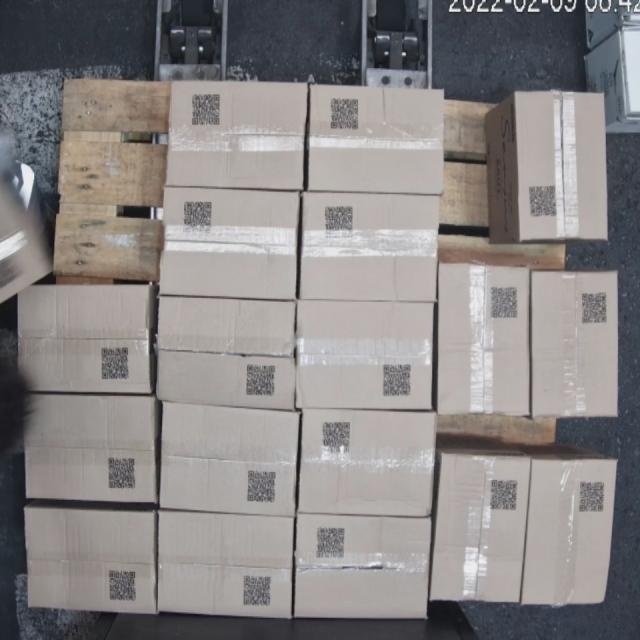box: (158, 400, 298, 516), (158, 296, 294, 412), (158, 186, 298, 297), (166, 80, 306, 188), (300, 192, 438, 300), (298, 408, 436, 516), (296, 300, 431, 408), (430, 452, 528, 600), (308, 84, 442, 192), (518, 458, 618, 602), (296, 512, 434, 616), (157, 510, 291, 617), (436, 262, 530, 414), (17, 284, 148, 392), (22, 392, 152, 500), (23, 507, 154, 614), (513, 91, 608, 238), (530, 272, 618, 416)
